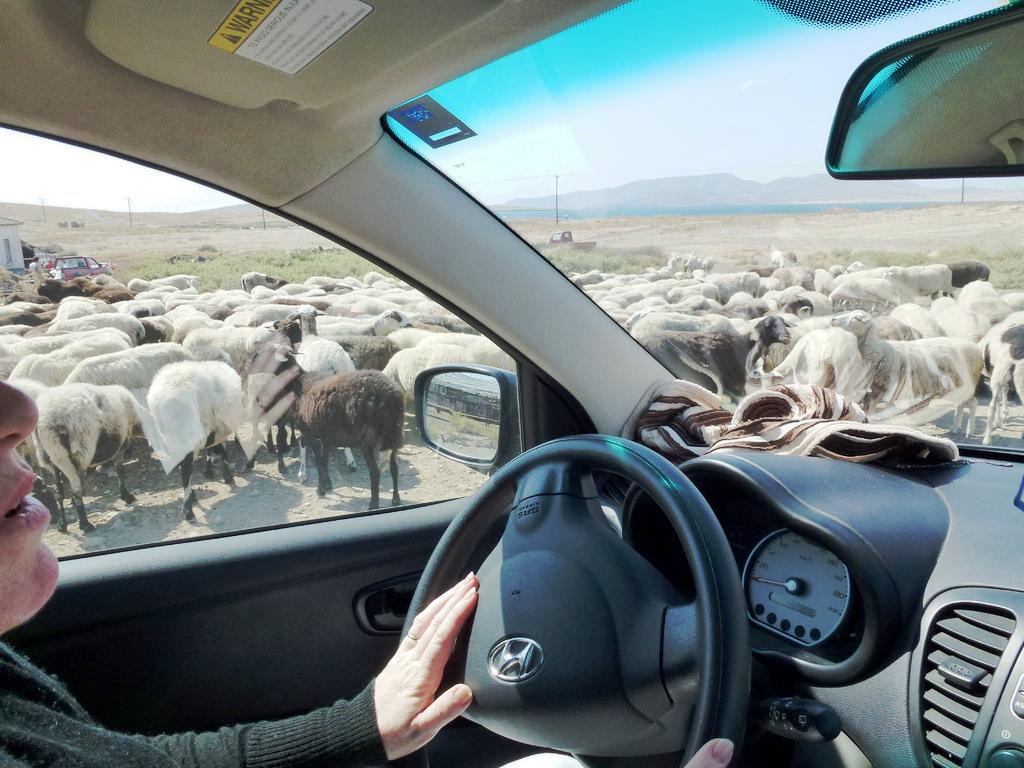Sheep: (253, 366, 405, 493), (29, 383, 147, 531), (634, 309, 804, 392), (150, 359, 240, 488), (236, 322, 306, 470), (288, 306, 418, 375), (4, 364, 68, 493), (385, 340, 500, 405), (39, 330, 137, 370), (880, 264, 955, 306), (623, 307, 735, 335), (827, 276, 900, 317), (180, 327, 253, 364), (7, 352, 73, 387), (698, 271, 762, 304), (888, 302, 945, 339), (775, 288, 833, 319), (721, 296, 782, 322), (768, 266, 815, 293), (51, 298, 102, 320), (136, 314, 174, 343)
